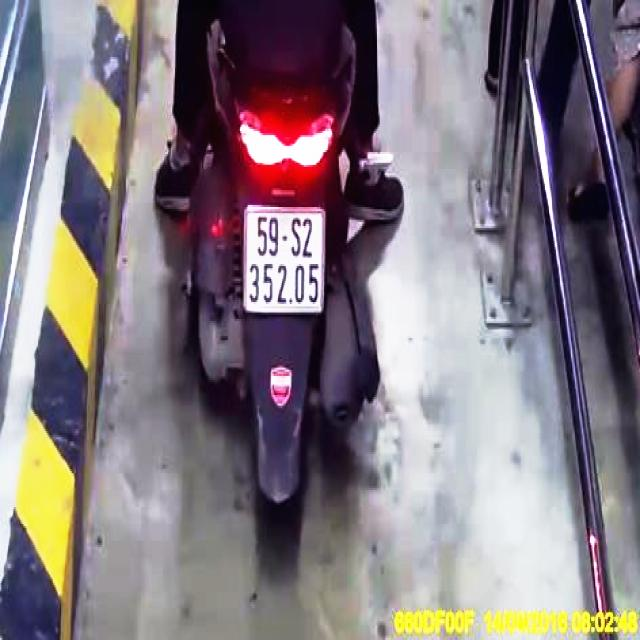license_plate: (244, 208, 325, 309)
